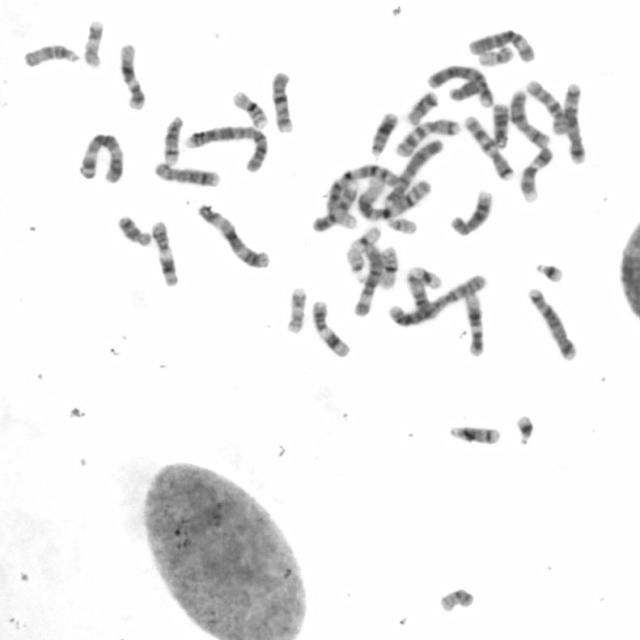A1: (311, 159, 399, 234), (354, 176, 431, 221)
A2: (385, 268, 490, 328), (181, 121, 271, 173)
A3: (193, 200, 273, 271), (76, 129, 125, 184)
B4: (383, 134, 446, 210), (422, 61, 496, 108)
B5: (524, 283, 578, 362), (562, 80, 587, 164)
C10: (523, 76, 570, 136), (269, 68, 295, 134)
C11: (307, 297, 353, 360), (148, 217, 180, 288)
C12: (116, 40, 147, 110), (463, 290, 485, 357)
C6: (350, 241, 385, 317), (467, 26, 536, 64)
C7: (460, 112, 516, 182), (392, 115, 461, 158)
C8: (448, 185, 495, 239), (150, 158, 221, 188)
C9: (308, 178, 362, 233), (516, 144, 555, 202)
D13: (366, 108, 399, 158), (488, 100, 511, 149)
D14: (159, 110, 185, 166), (446, 422, 504, 446)
D15: (19, 39, 81, 69), (403, 272, 434, 320)
E16: (228, 86, 270, 130), (376, 242, 401, 290)
E17: (282, 283, 308, 336), (80, 16, 106, 69)
E18: (403, 86, 440, 126), (114, 211, 153, 248)
F19: (344, 223, 382, 255), (407, 264, 443, 290)
F20: (434, 582, 478, 613), (478, 46, 516, 68)
G21: (532, 258, 566, 283), (512, 412, 536, 446)
G22: (342, 244, 368, 284), (383, 214, 420, 236)
X: (506, 86, 552, 149)
Y: (448, 78, 482, 102)
